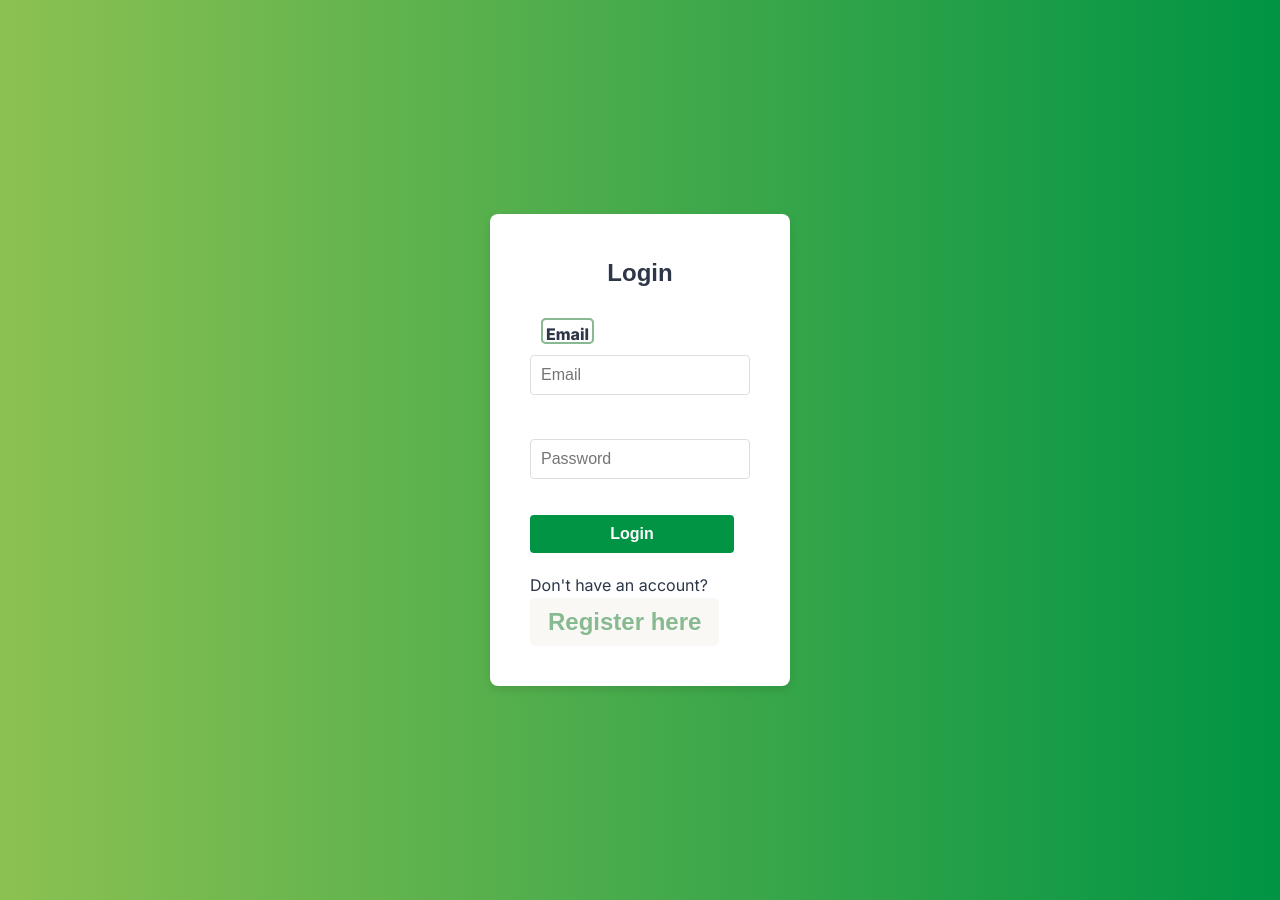
LoginPage Component › shows error message when user does not exist
The image size is (1280, 900).
Step 1. Type "test@example.com" into the field with placeholder "Email" → {"x": 640, "y": 375}, box x1=530 y1=355 x2=750 y2=395
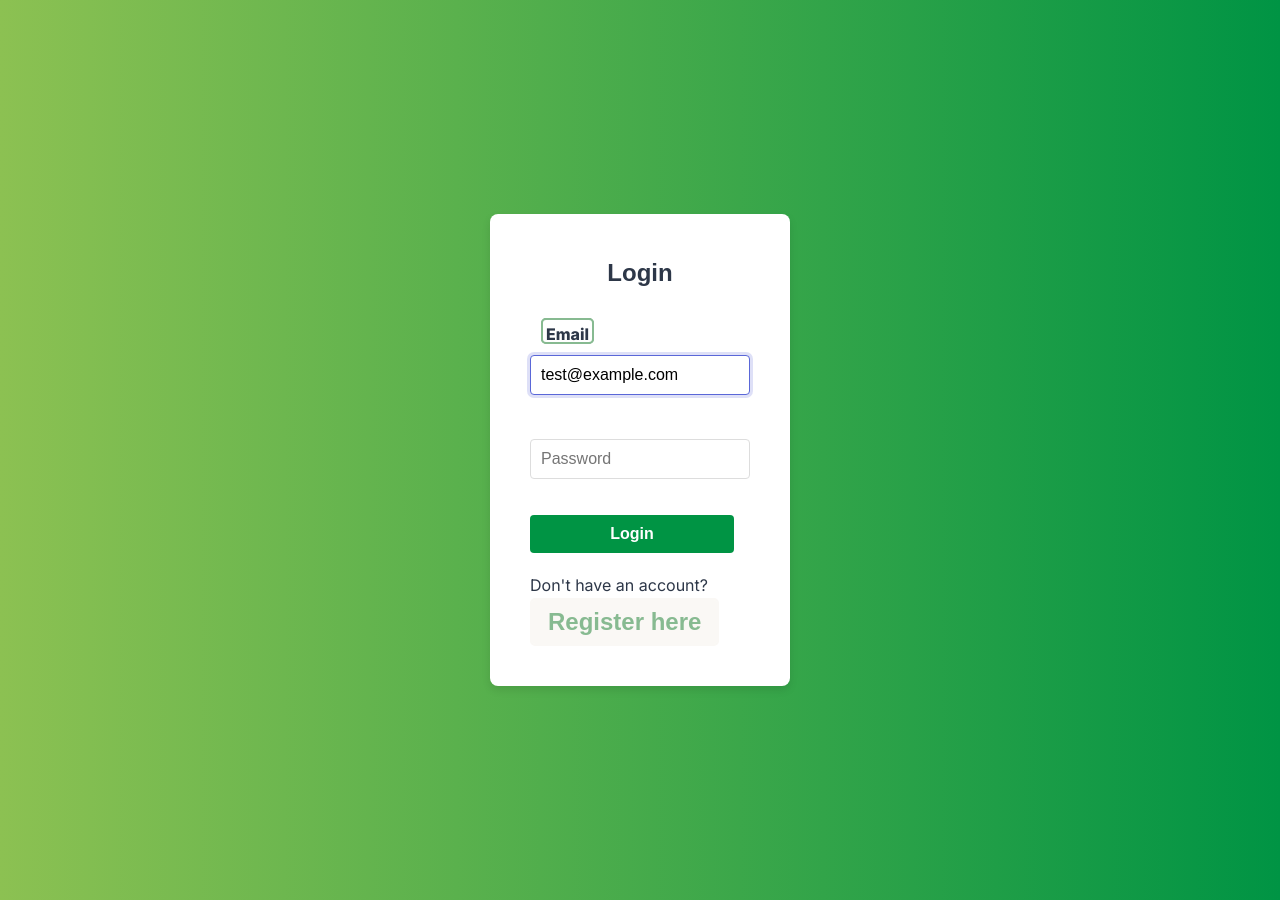
Step 2. Type "password123" into the password field with placeholder "Password" → {"x": 640, "y": 459}, box x1=530 y1=439 x2=750 y2=479
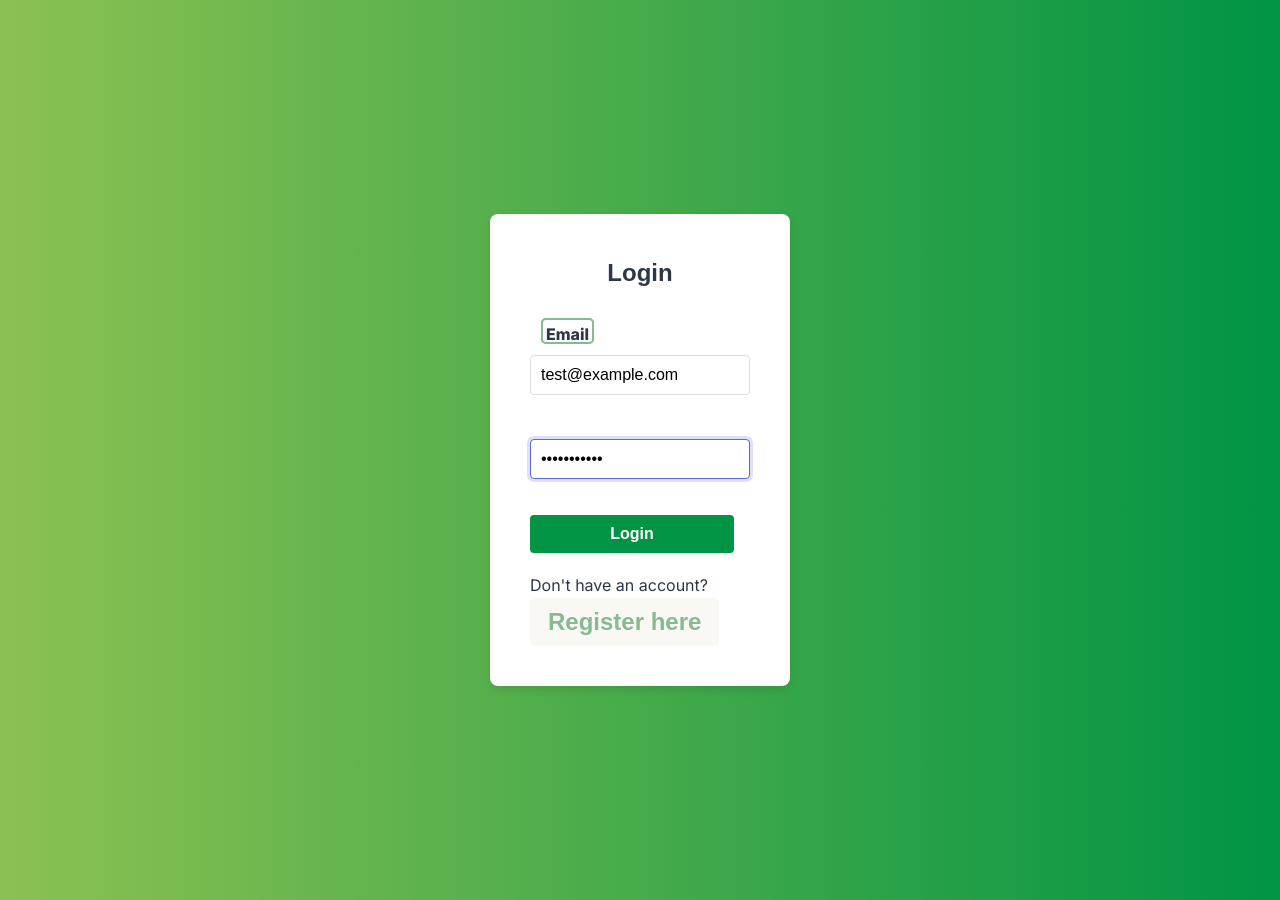
Step 3. Click the button "Login" → {"x": 632, "y": 534}, box x1=530 y1=515 x2=734 y2=553
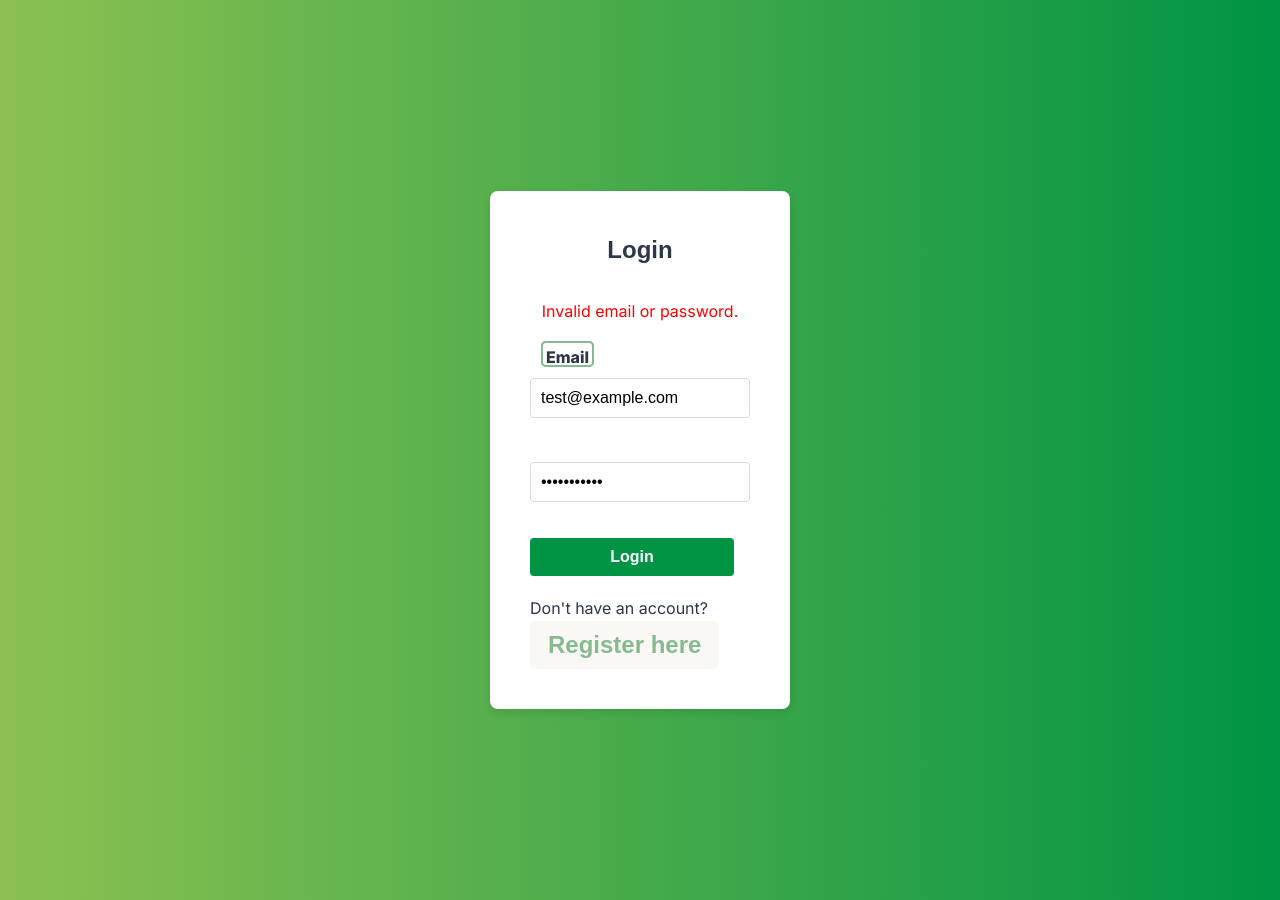
Expected: the text "Invalid email or password." is shown, x1=530 y1=299 x2=750 y2=325
